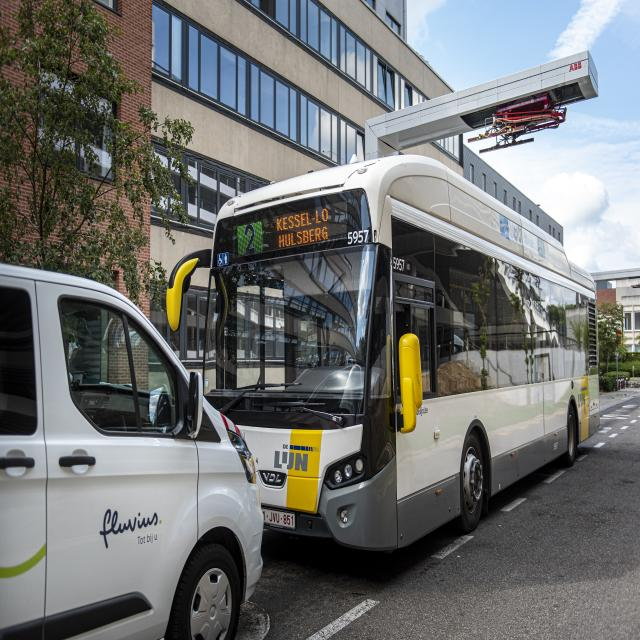bus-number: (237, 224, 262, 255)
